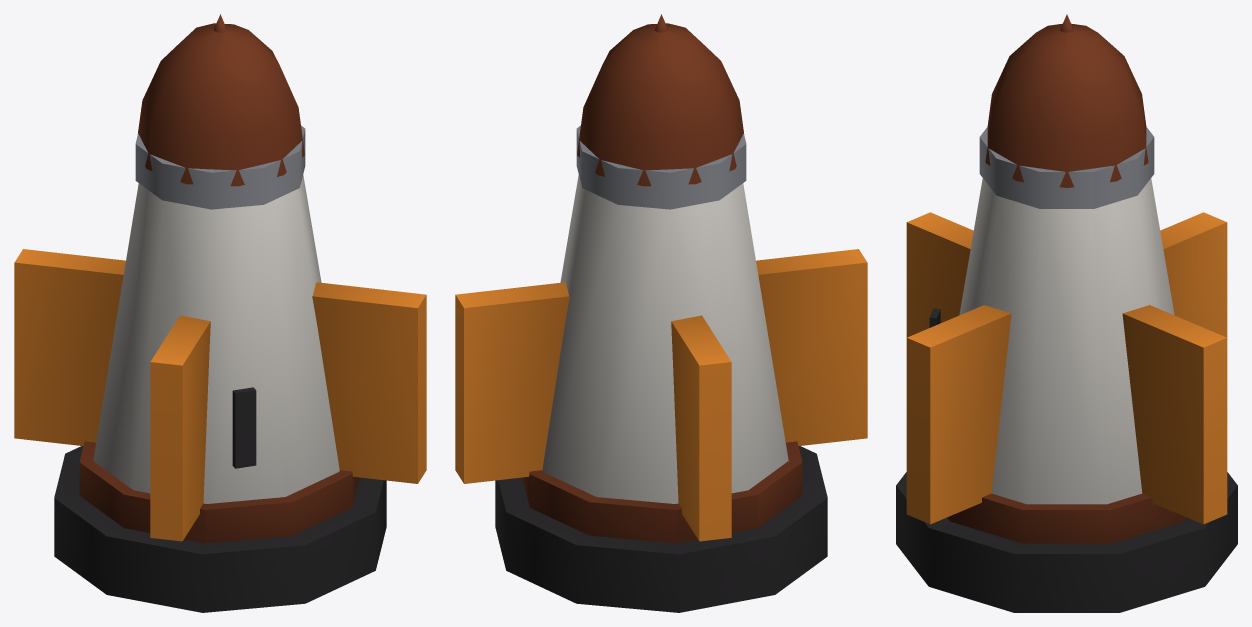
Rendered from drop_pod.glb.
The picture shows the model from 3 angles, left to right: view 1: azimuth 30°, elevation 25°; view 2: azimuth 150°, elevation 25°; view 3: azimuth 270°, elevation 25°; orthographic projection.
Parts seen in each view (by area): view 1: drop_pod; view 2: drop_pod; view 3: drop_pod.
Boxes of the visible parts, x1,y1,x2,y2 form: drop_pod: (14,14,426,612); drop_pod: (455,14,867,612); drop_pod: (896,14,1237,612).
Bounding box in the file's own units: 0.175 × 0.315 × 0.184.
